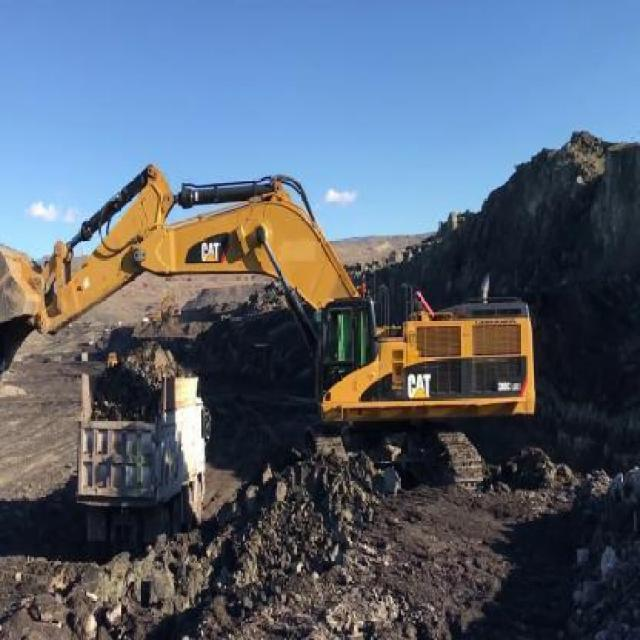Dump Truck: (80, 350, 208, 532)
Excavator: (3, 158, 537, 518)
